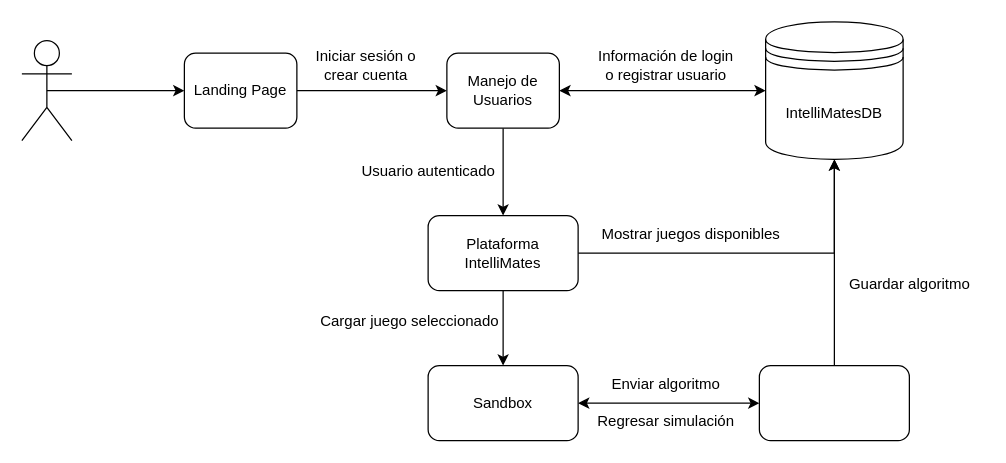
This 1006x463 diagram has some shape labels left out. Each missing label, with the box of its shape:
Ejecutor de código: (758, 364, 909, 441)
Usuario: (21, 39, 72, 141)
